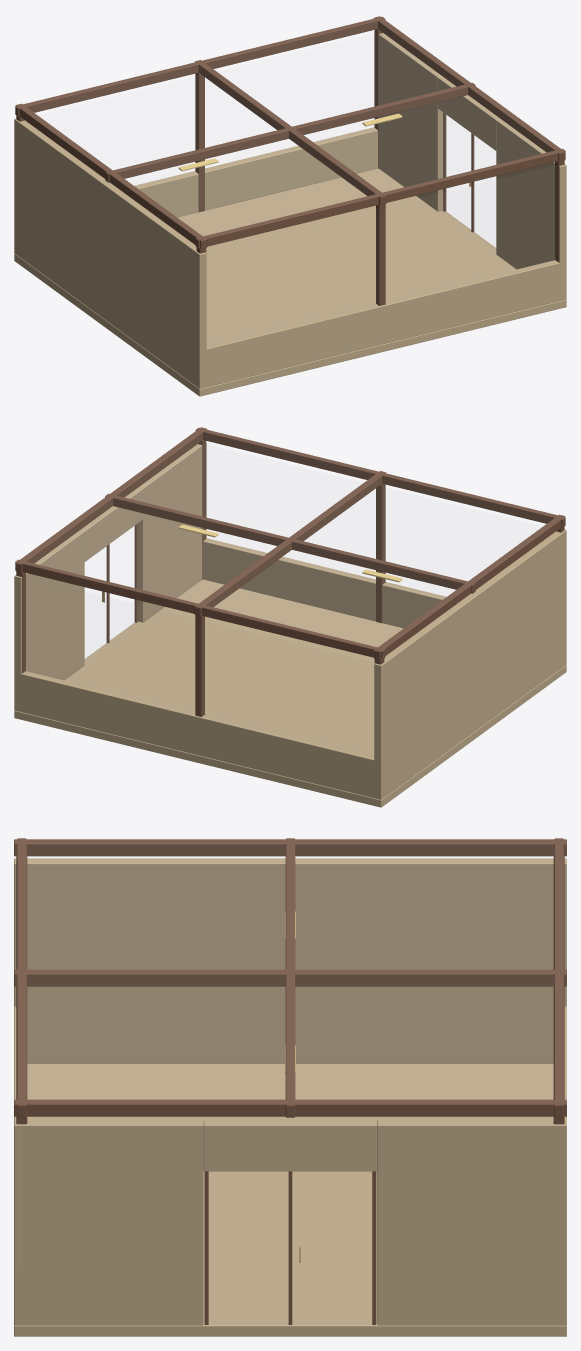
File: griffin-airmail-roost-and-posthouse-roofed-cliff-posth-9b54b7ee__30492.glb
The picture shows the model from 3 angles, top to bottom: view 1: azimuth 30°, elevation 25°; view 2: azimuth 150°, elevation 25°; view 3: azimuth 270°, elevation 25°; orthographic projection. The views are drawn at different scales.
Visible parts, largest first — view 1: roofed-cliff-posthouse; view 2: roofed-cliff-posthouse; view 3: roofed-cliff-posthouse.
Boxes of the visible parts, bbox=[...] form: roofed-cliff-posthouse: bbox=[14, 16, 566, 396]; roofed-cliff-posthouse: bbox=[14, 427, 566, 807]; roofed-cliff-posthouse: bbox=[14, 838, 566, 1336].
Bounding box in the file's own units: 8.03 × 3.27 × 7.
